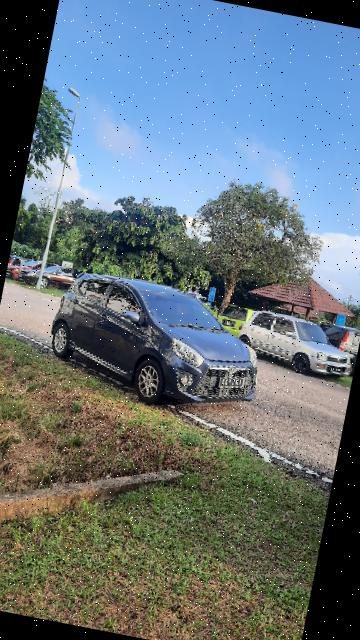License_Plate: (218, 374, 251, 395)
car: (41, 264, 276, 423), (233, 302, 360, 384)
